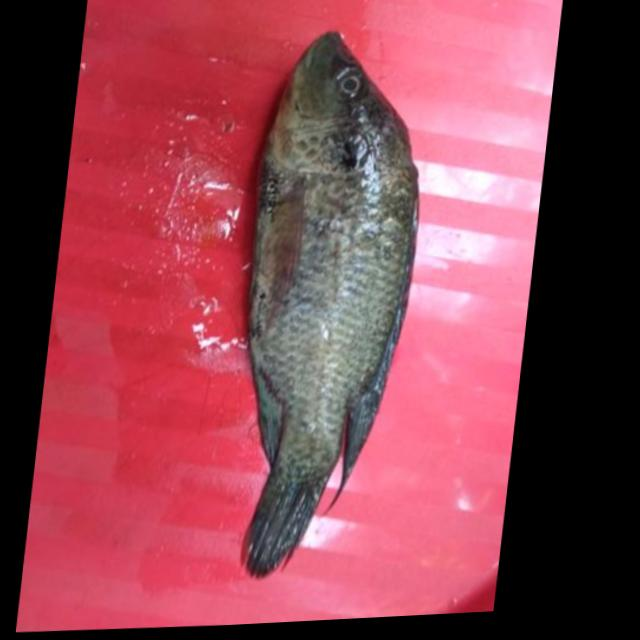Tilapia: (214, 21, 440, 585)
